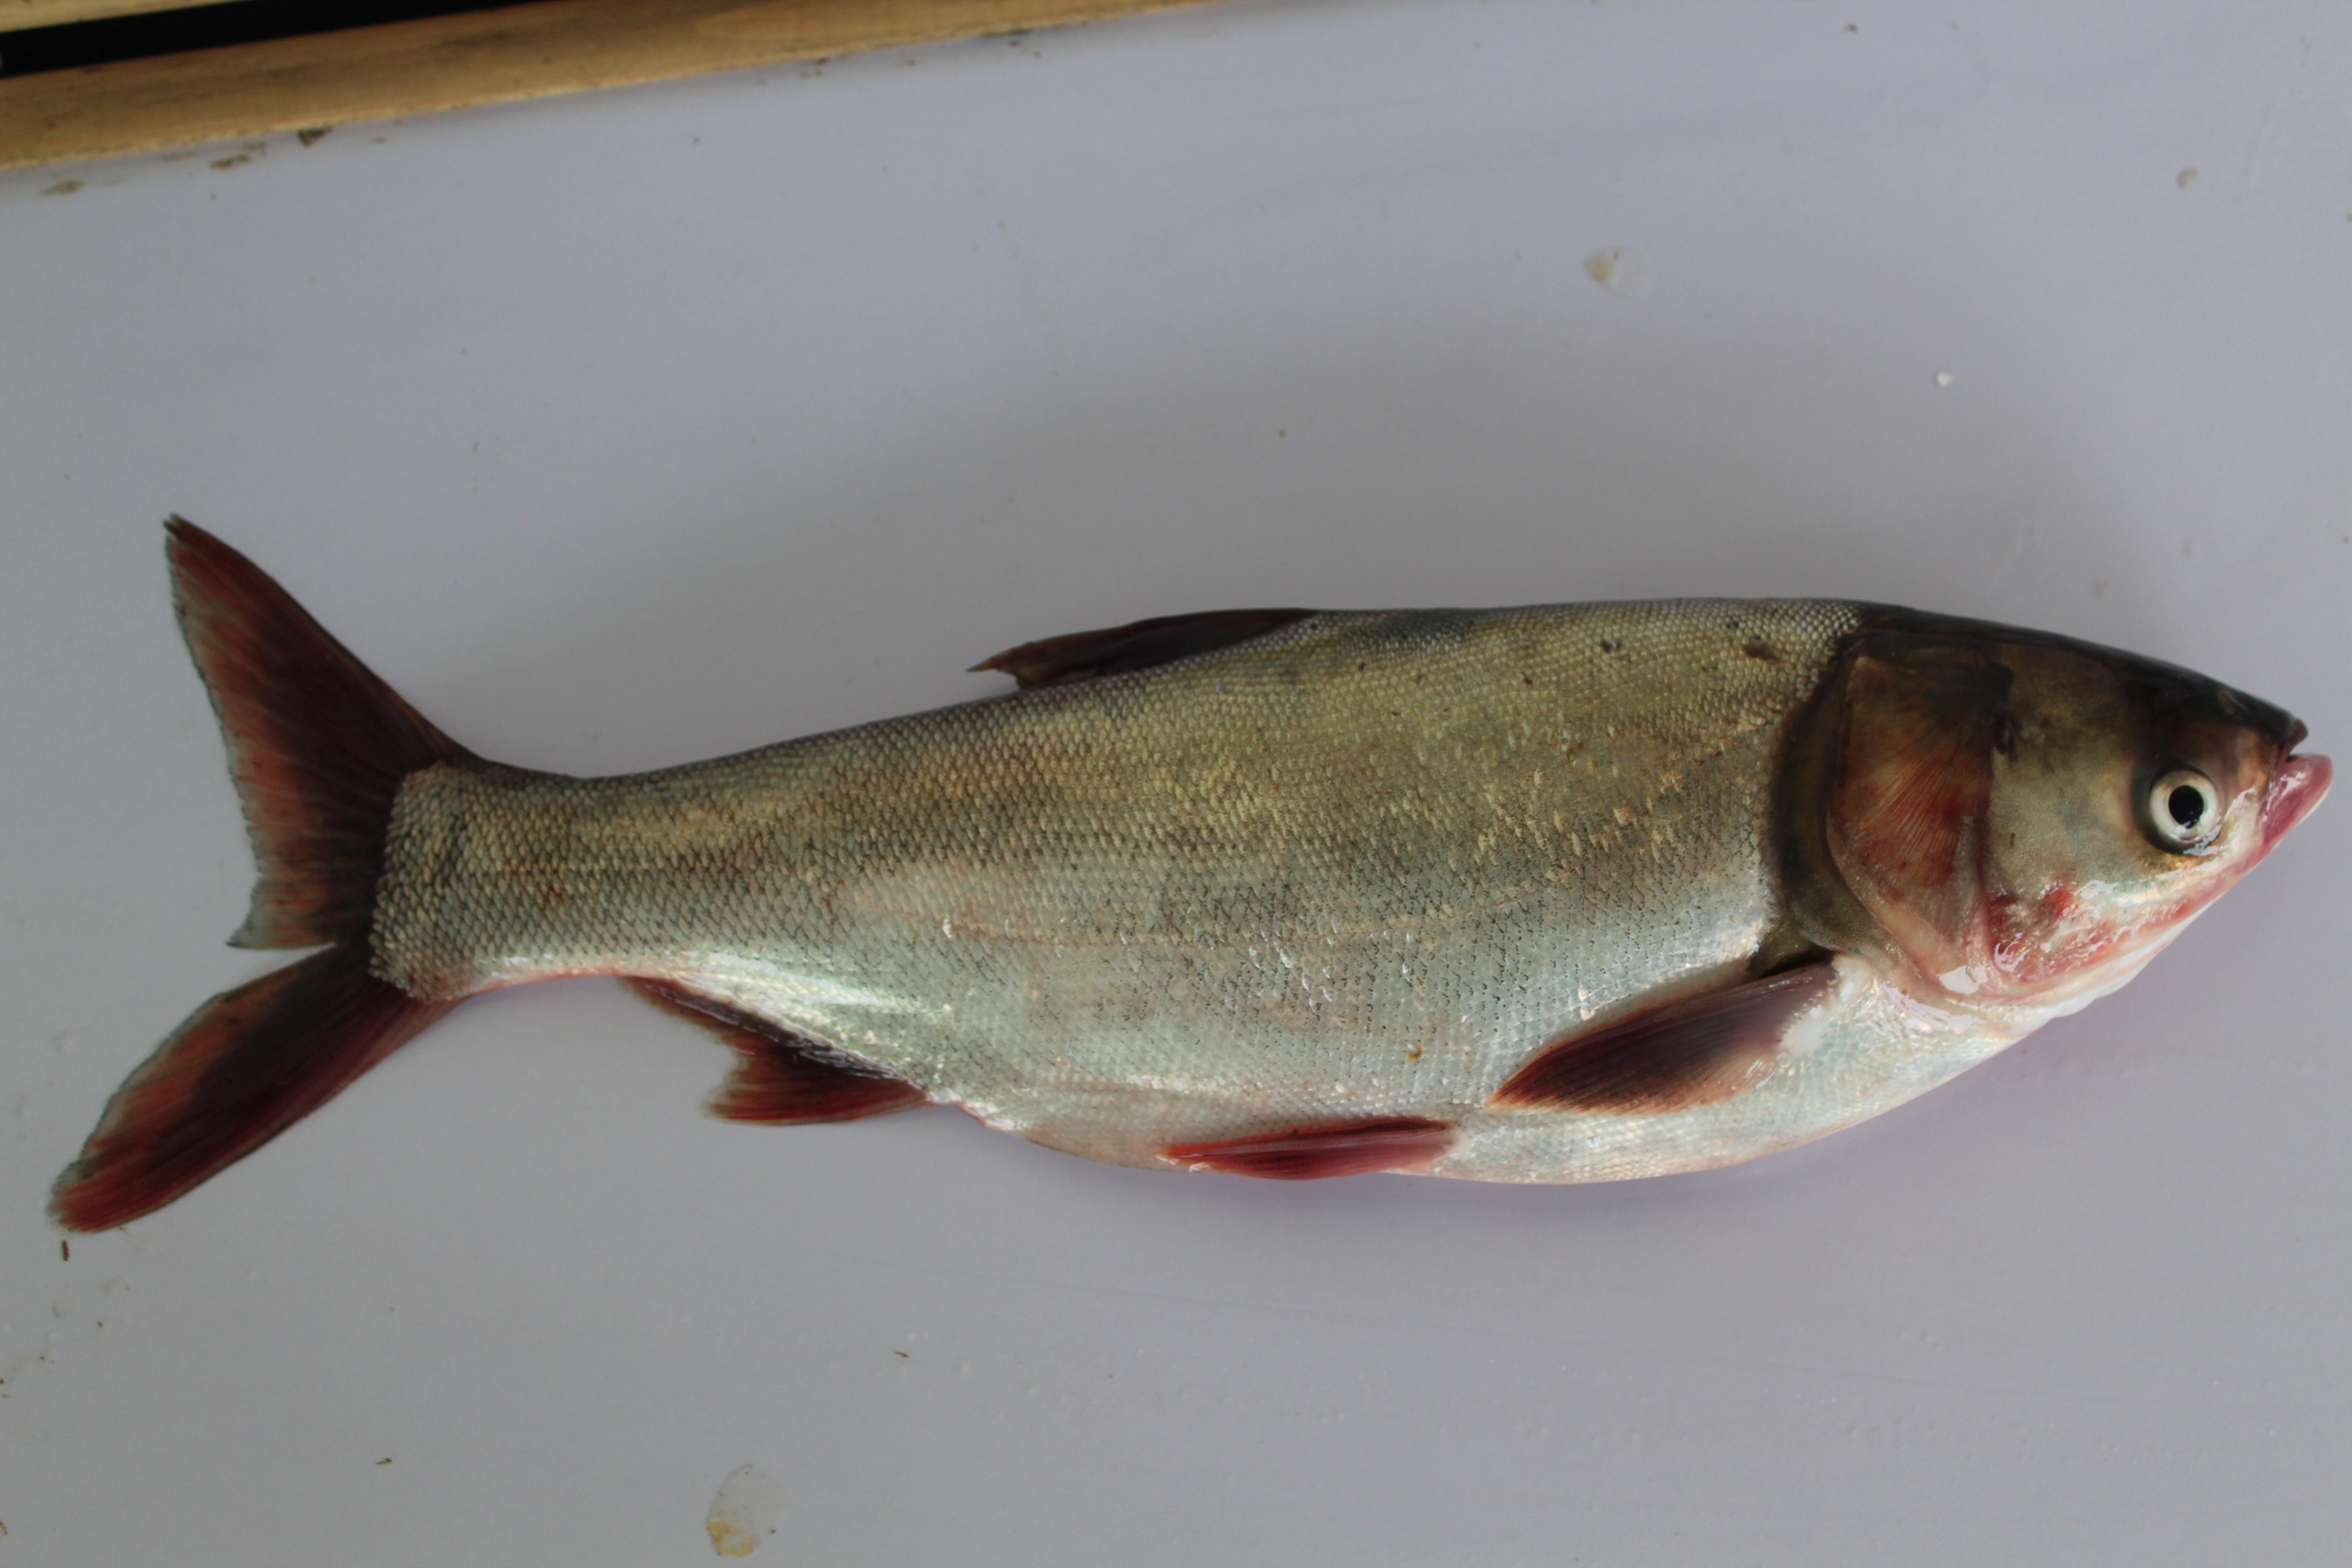Silver Carp: (65, 516, 2334, 1262)
